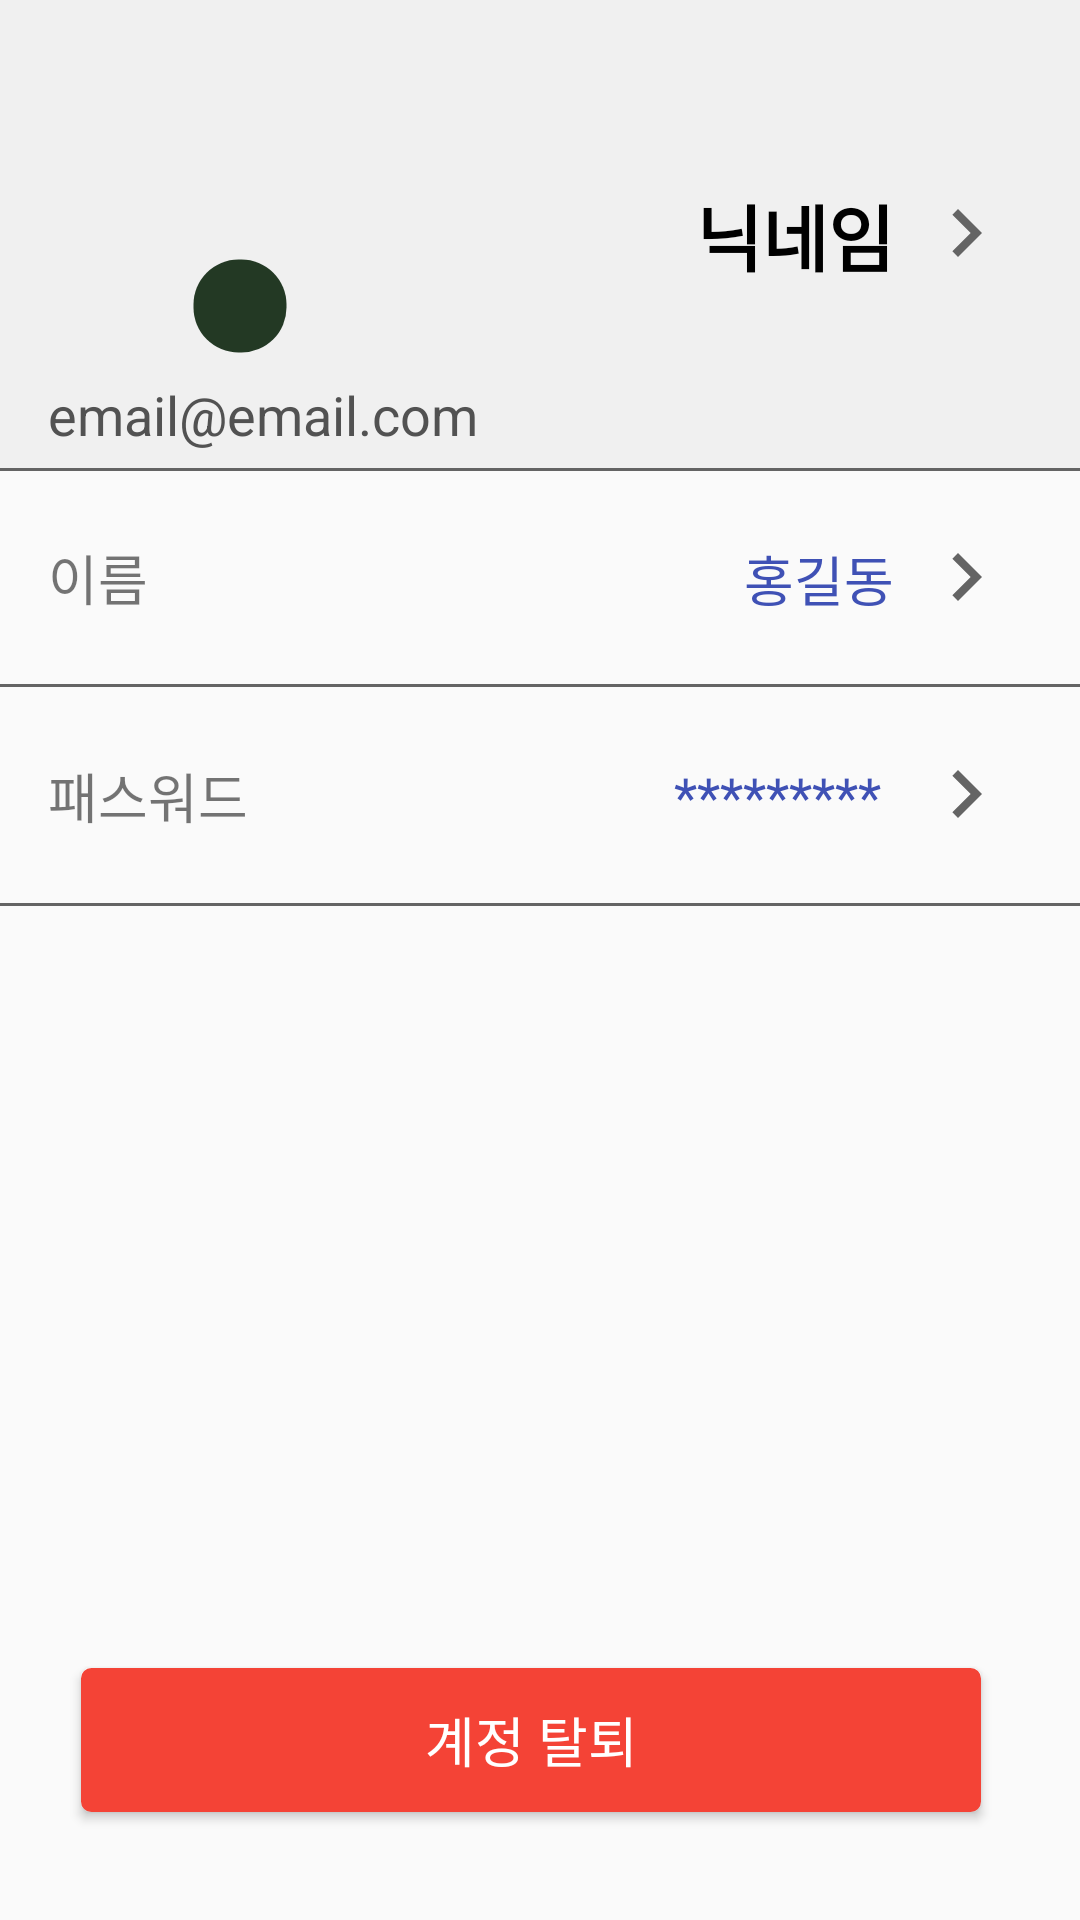

Icon bounding boxes for this 1080 x 1920 phone screenshot, format (x1, y1, x2, y2):
keyboard arrow right: (952, 209, 982, 257), (952, 553, 982, 601), (952, 770, 982, 818)
